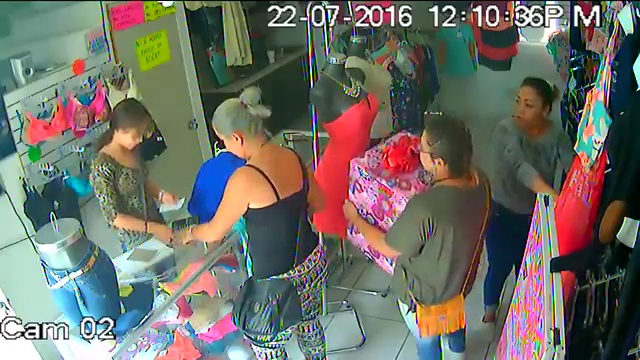face: (512, 90, 547, 123), (417, 135, 447, 172), (117, 122, 141, 152)
